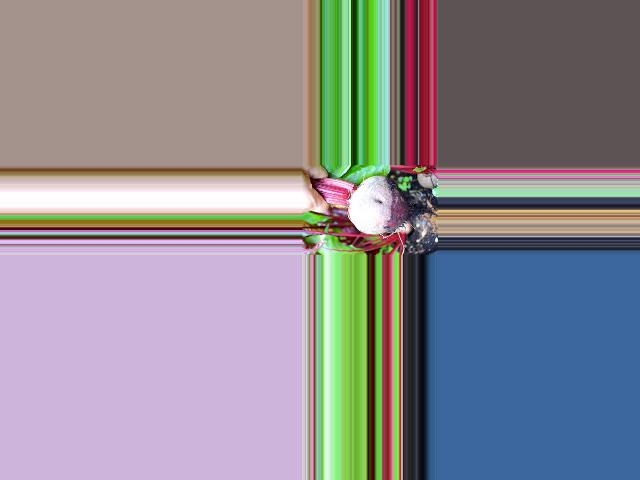beet: (310, 176, 438, 235)
